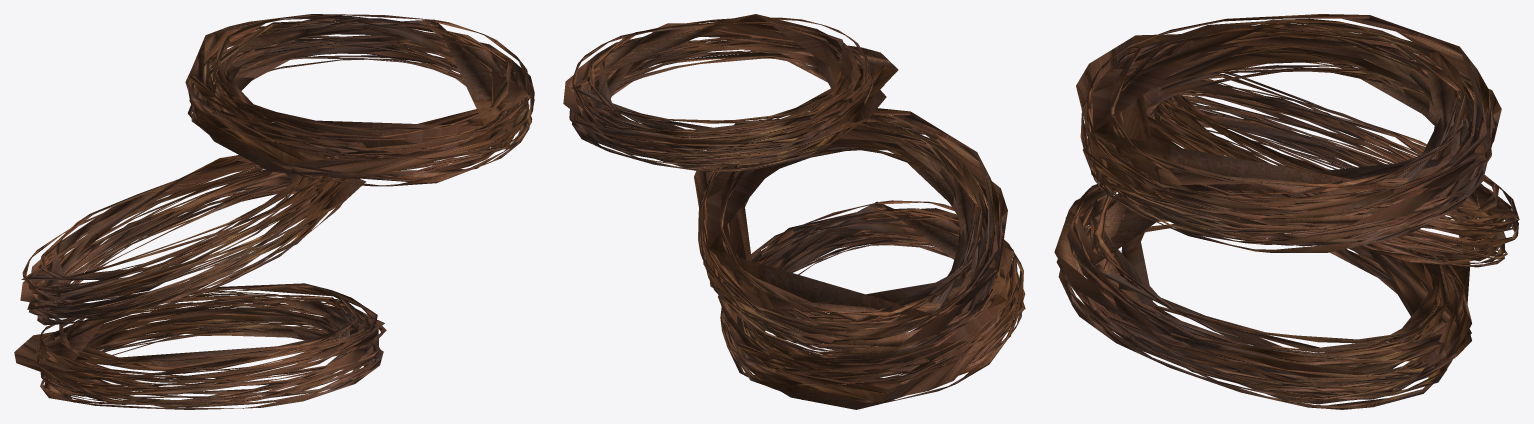
The model's file is EST-ARA-001_anim.glb.
3 views of the same model, side by side, from view 1: azimuth 30°, elevation 25°; view 2: azimuth 150°, elevation 25°; view 3: azimuth 270°, elevation 25° (orthographic). The views are drawn at different scales.
Visible parts, largest first — view 1: EST-ARA-001_anim2, EST-ARA-001_anim0, EST-ARA-001_anim1; view 2: EST-ARA-001_anim1, EST-ARA-001_anim2, EST-ARA-001_anim0; view 3: EST-ARA-001_anim2, EST-ARA-001_anim0, EST-ARA-001_anim1.
Part boxes in pixels (x1=…): EST-ARA-001_anim2: x1=185, y1=14, x2=534, y2=186; EST-ARA-001_anim0: x1=14, y1=283, x2=386, y2=409; EST-ARA-001_anim1: x1=20, y1=151, x2=366, y2=325; EST-ARA-001_anim1: x1=694, y1=108, x2=1007, y2=359; EST-ARA-001_anim2: x1=563, y1=14, x2=898, y2=171; EST-ARA-001_anim0: x1=718, y1=200, x2=1025, y2=409; EST-ARA-001_anim2: x1=1076, y1=14, x2=1501, y2=252; EST-ARA-001_anim0: x1=1054, y1=183, x2=1471, y2=409; EST-ARA-001_anim1: x1=1147, y1=73, x2=1519, y2=267.
Size of the model in its own units: 0.373 by 0.223 by 0.2709.
Materials: 1 (1 with a texture image).
